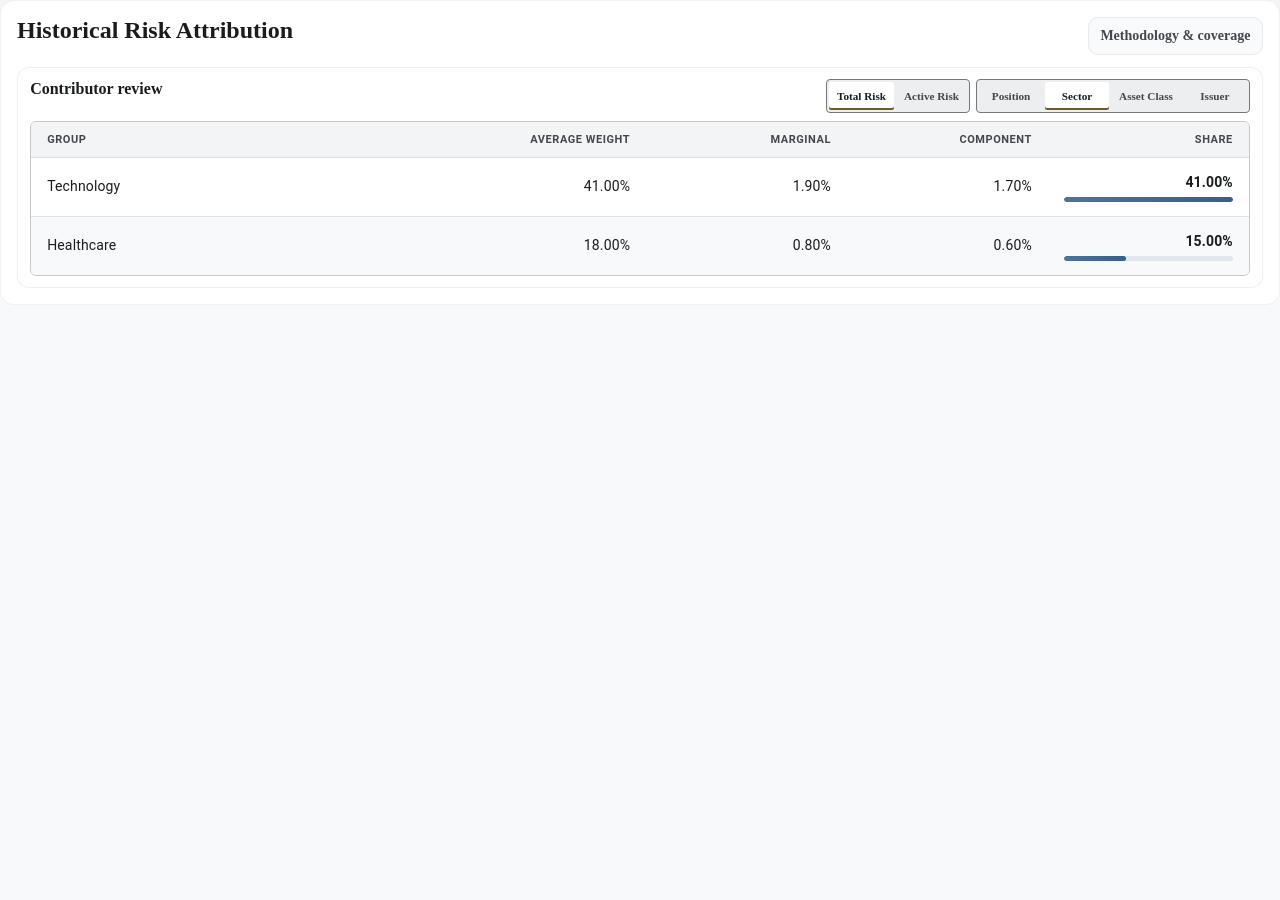
Scenario: RiskAttributionPanel › keeps reconciled sum and evidence posture in the methodology drawer instead of the main panel
The width and height of the screenshot is (1280, 900).
Expected: the text "Reconciled sum" is not shown
Expected: the text "Evidence posture" is not shown
Step 1. Click the button with aria-label "Historical Risk Attribution methodology and coverage" → (1175, 36), box [1088,17,1263,55]
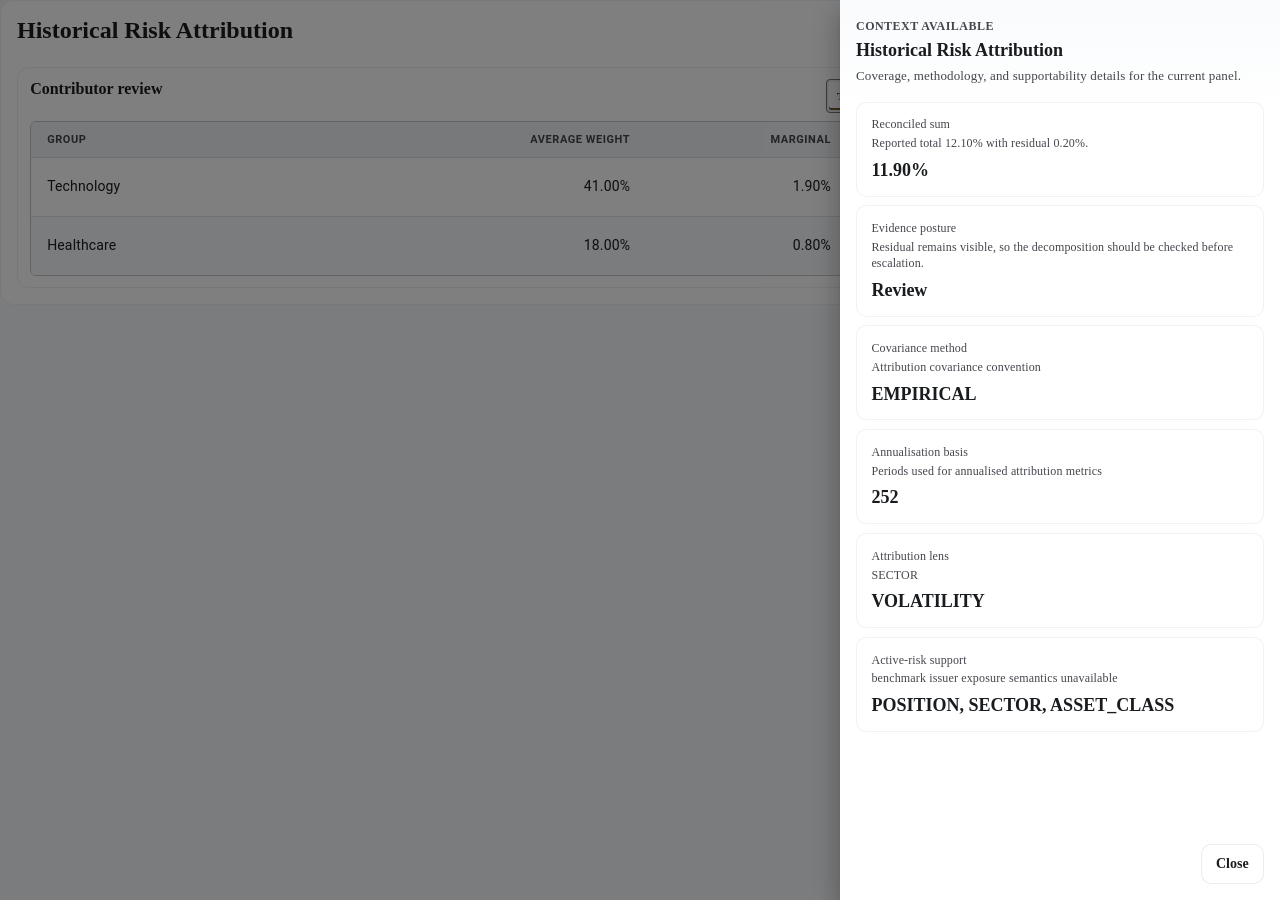
Now the text "Reconciled sum" is shown, box [871,117,950,131]
Now the text "Evidence posture" is shown, box [871,221,956,235]
